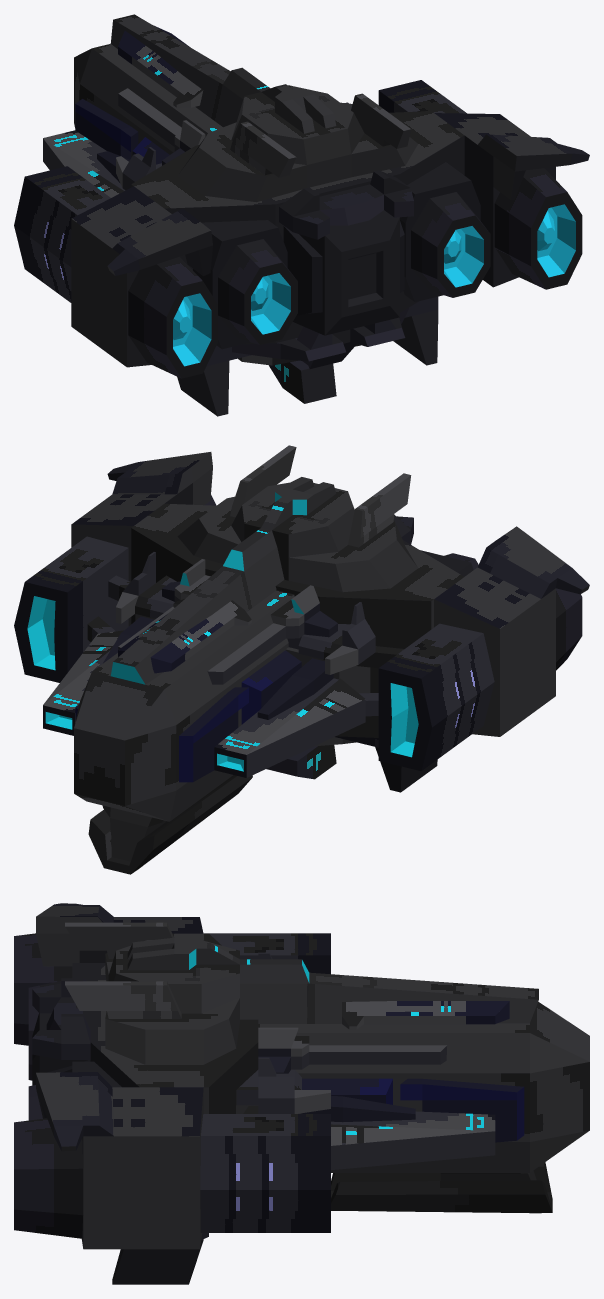
Rendered from npcShip4.glb.
3 renders of one model, top to bottom at view 1: azimuth 30°, elevation 25°; view 2: azimuth 150°, elevation 25°; view 3: azimuth 270°, elevation 25°, orthographic. The views are drawn at different scales.
Parts seen in each view (by area): view 1: cylinder_7, cuboid_11, cylinder_6, cylinder_46, cylinder_48, cuboid_16, cuboid_29, cylinder_47, cylinder_49, cuboid_61, beveled_cuboid_8, cuboid_42 (+14 smaller); view 2: beveled_cuboid_8, cuboid_11, cuboid_29, cylinder_6, cylinder_7, cuboid_32, cuboid_42, cuboid_31, cuboid_16, tube_0, cuboid_58, cuboid_19 (+14 smaller); view 3: cuboid_16, beveled_cuboid_8, cuboid_32, cuboid_42, cylinder_6, tube_0, cylinder_7, cuboid_34, cylinder_48, cuboid_59, cuboid_20, cuboid_11 (+13 smaller).
Part boxes in pixels (x1,y1,x2,y2): cylinder_7: (131, 111, 464, 344); cuboid_11: (71, 186, 212, 367); cylinder_6: (177, 85, 417, 202); cylinder_46: (128, 256, 217, 378); cylinder_48: (494, 168, 582, 289); cuboid_16: (434, 113, 589, 287); cuboid_29: (14, 166, 110, 302); cylinder_47: (218, 239, 297, 344); cylinder_49: (411, 192, 490, 297); cuboid_61: (177, 296, 438, 416); beveled_cuboid_8: (74, 43, 222, 157); cuboid_42: (110, 14, 270, 127); beveled_cuboid_8: (74, 590, 294, 821); cuboid_11: (434, 526, 589, 736); cuboid_29: (378, 623, 494, 771); cylinder_6: (177, 482, 417, 592); cylinder_7: (131, 503, 463, 737); cuboid_32: (14, 536, 128, 682); cuboid_42: (111, 528, 284, 684); cuboid_31: (214, 678, 365, 777); cuboid_16: (71, 452, 212, 626); tube_0: (88, 775, 252, 874); cuboid_58: (207, 585, 337, 684); cuboid_19: (179, 687, 248, 782); cuboid_16: (36, 1072, 203, 1249); beveled_cuboid_8: (258, 1002, 589, 1172); cuboid_32: (200, 1114, 330, 1232); cuboid_42: (240, 959, 538, 1023); cylinder_6: (105, 940, 239, 1064); tube_0: (331, 1162, 552, 1213); cylinder_7: (32, 933, 258, 1113); cuboid_34: (331, 1111, 495, 1169); cylinder_48: (14, 1118, 83, 1238); cuboid_59: (258, 1027, 447, 1073); cuboid_20: (400, 1078, 524, 1142); cuboid_11: (36, 903, 203, 966).
Size of the model in its own units: 22.22 by 12.72 by 22.22.
6 materials, 6 textured.
